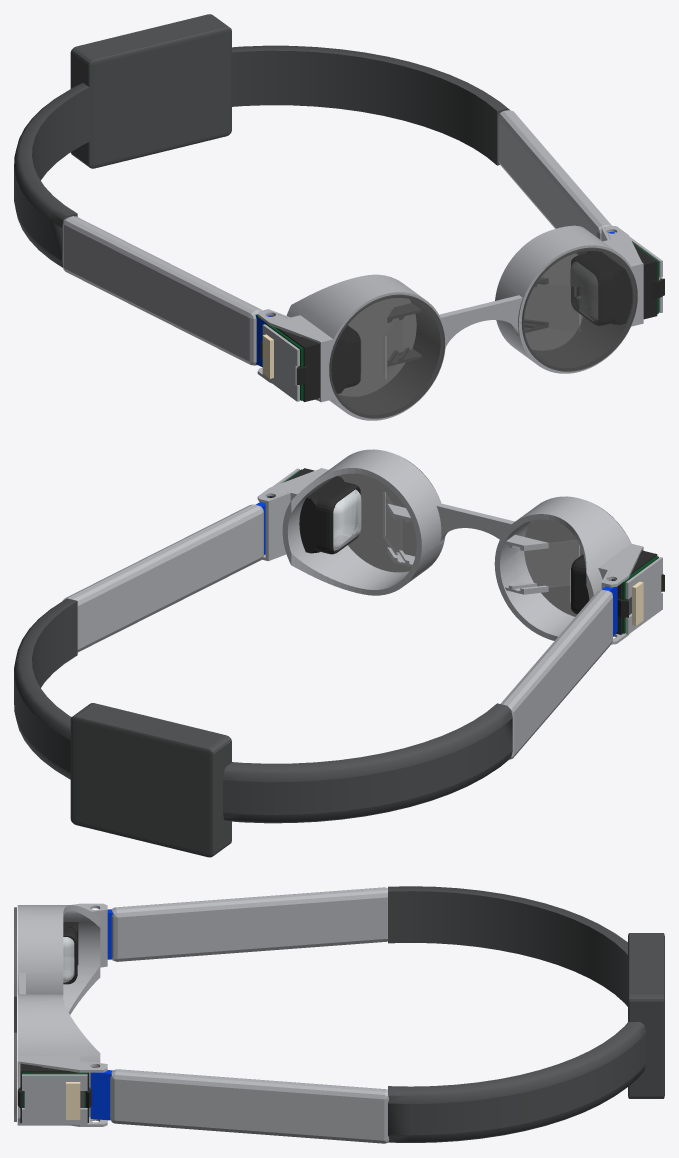
Rendered from zero.glb.
The picture shows the model from 3 angles, top to bottom: view 1: azimuth 30°, elevation 25°; view 2: azimuth 150°, elevation 25°; view 3: azimuth 270°, elevation 25°; orthographic projection. The views are drawn at different scales.
Visible parts, largest first — view 1: obj_0; view 2: obj_0; view 3: obj_0.
Part boxes in pixels (left/top/right/bottom): obj_0: left=14, top=14, right=664, bottom=420; obj_0: left=14, top=449, right=664, bottom=857; obj_0: left=14, top=886, right=664, bottom=1143.
Size of the model in its own units: 174 by 46 by 228.
